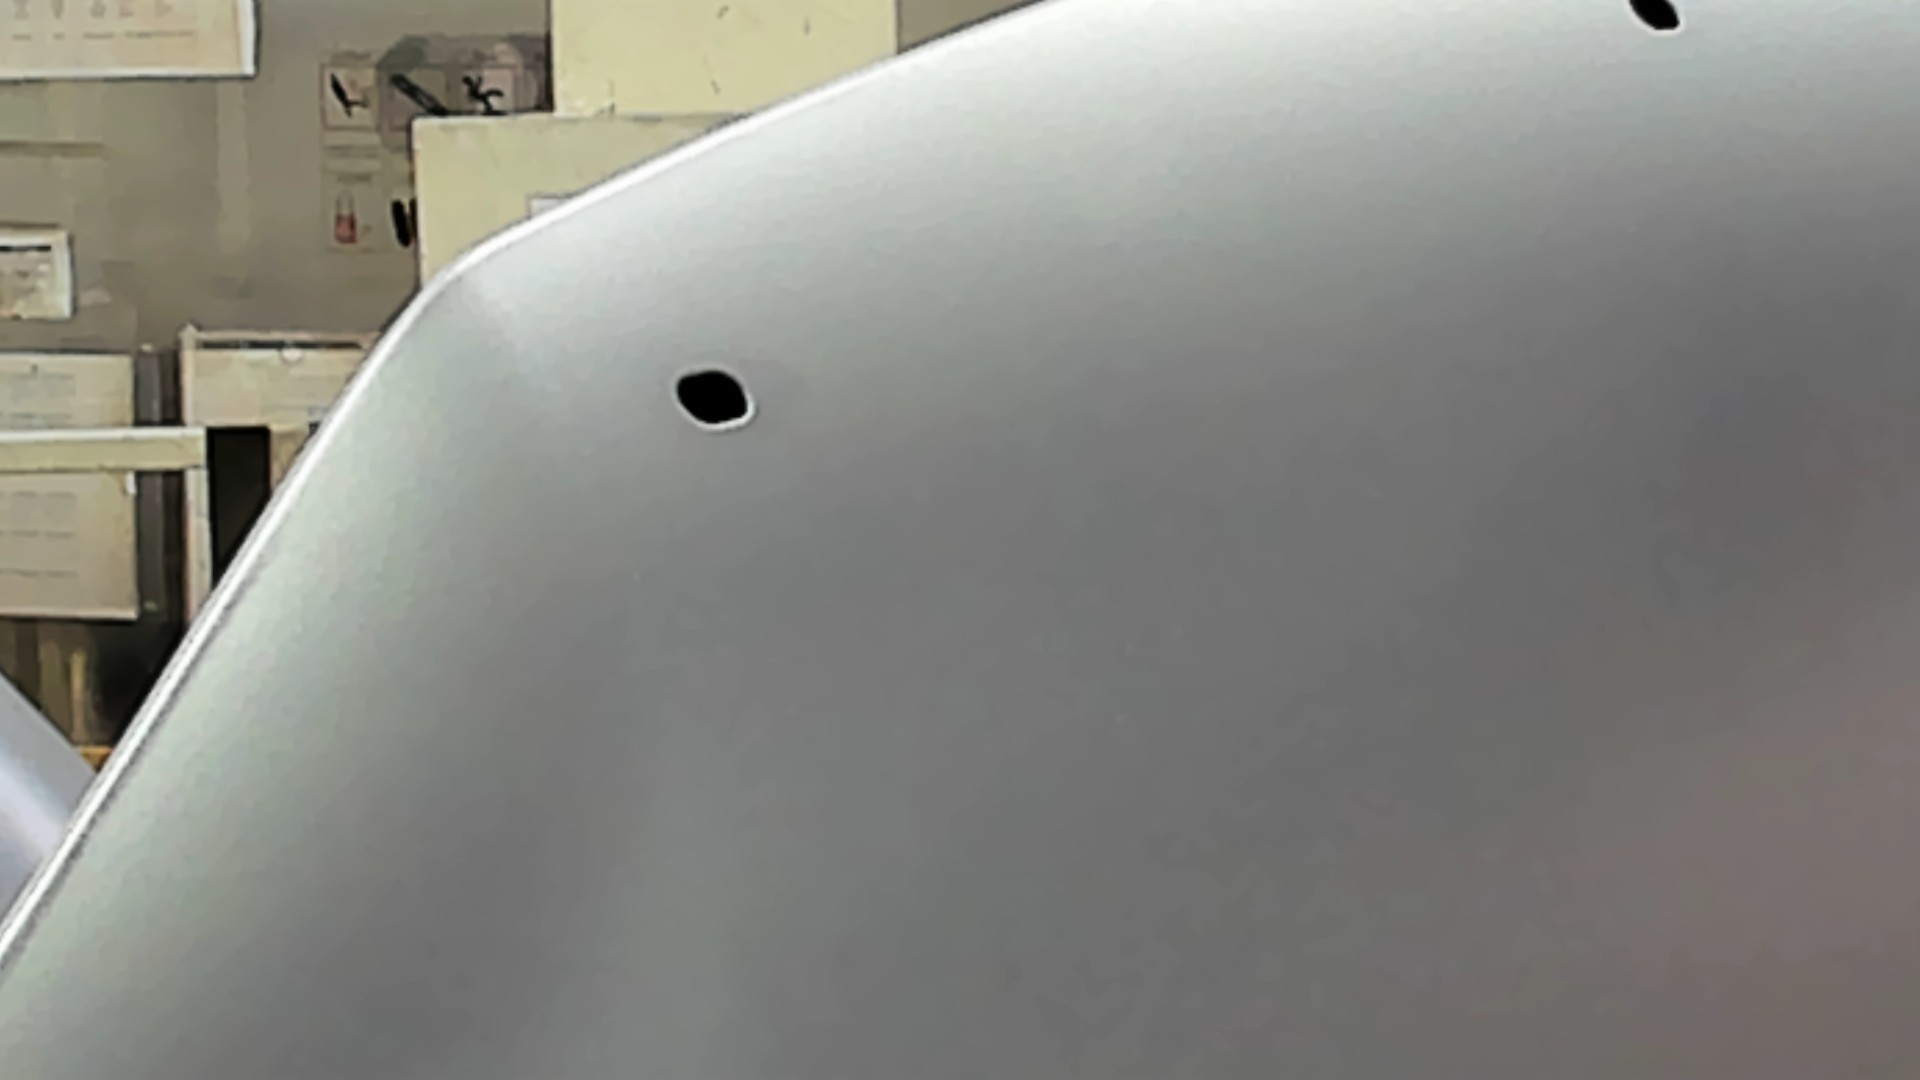amorfo: (670, 367, 764, 433), (1623, 1, 1687, 38)
